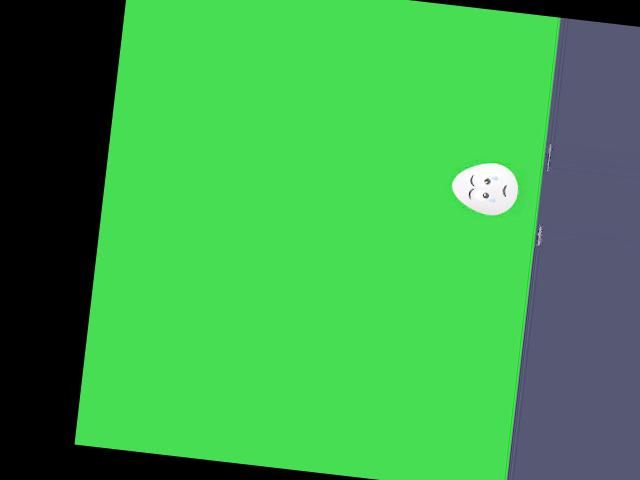egg: (449, 158, 520, 217)
